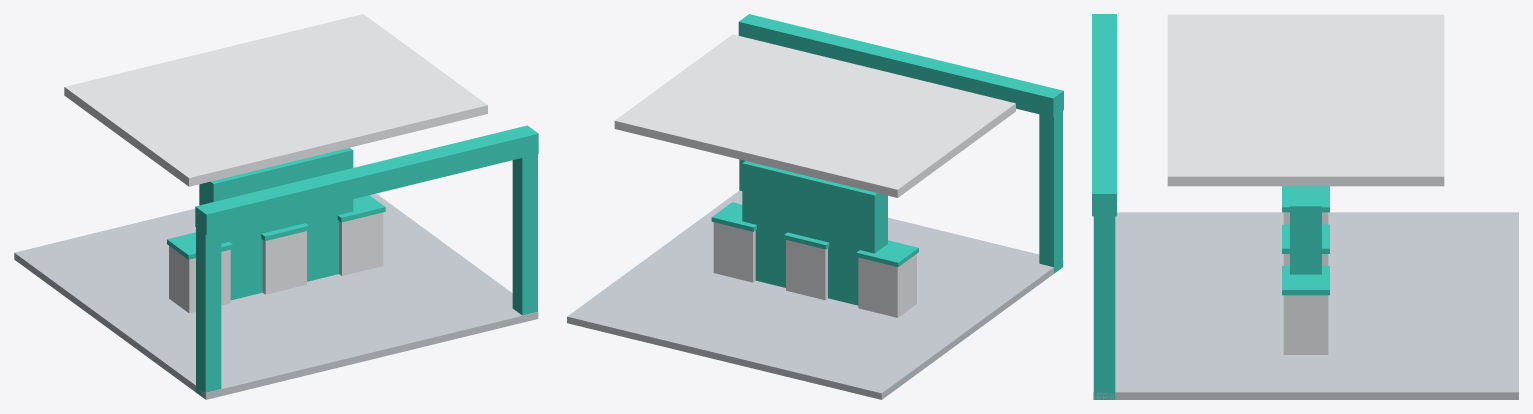
3 renders of one model, left to right at view 1: azimuth 30°, elevation 25°; view 2: azimuth 150°, elevation 25°; view 3: azimuth 270°, elevation 25°, orthographic. The views are drawn at different scales.
Parts seen in each view (by area): view 1: Exhibition Booth Concept; view 2: Exhibition Booth Concept; view 3: Exhibition Booth Concept.
Boxes of the visible parts, <box> form: Exhibition Booth Concept: <box>14,14,538,399</box>; Exhibition Booth Concept: <box>567,14,1063,399</box>; Exhibition Booth Concept: <box>1092,14,1518,399</box>.
Size of the model in its own units: 6 by 3.34 by 6.02.
